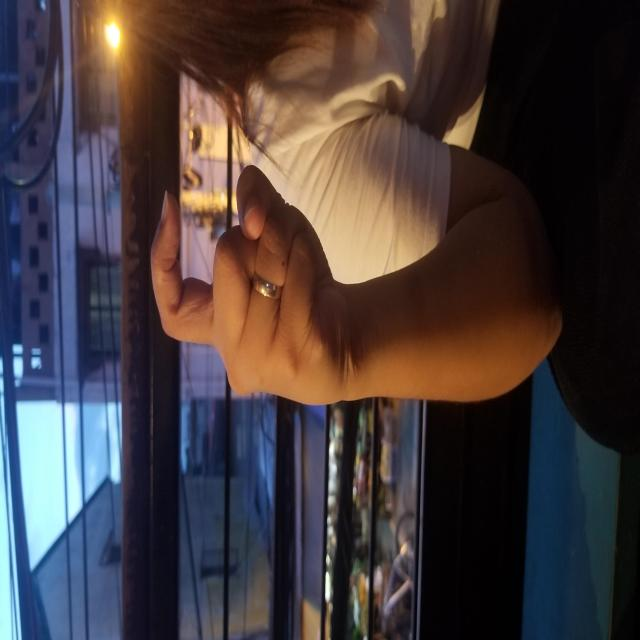X: (230, 147, 480, 343)
